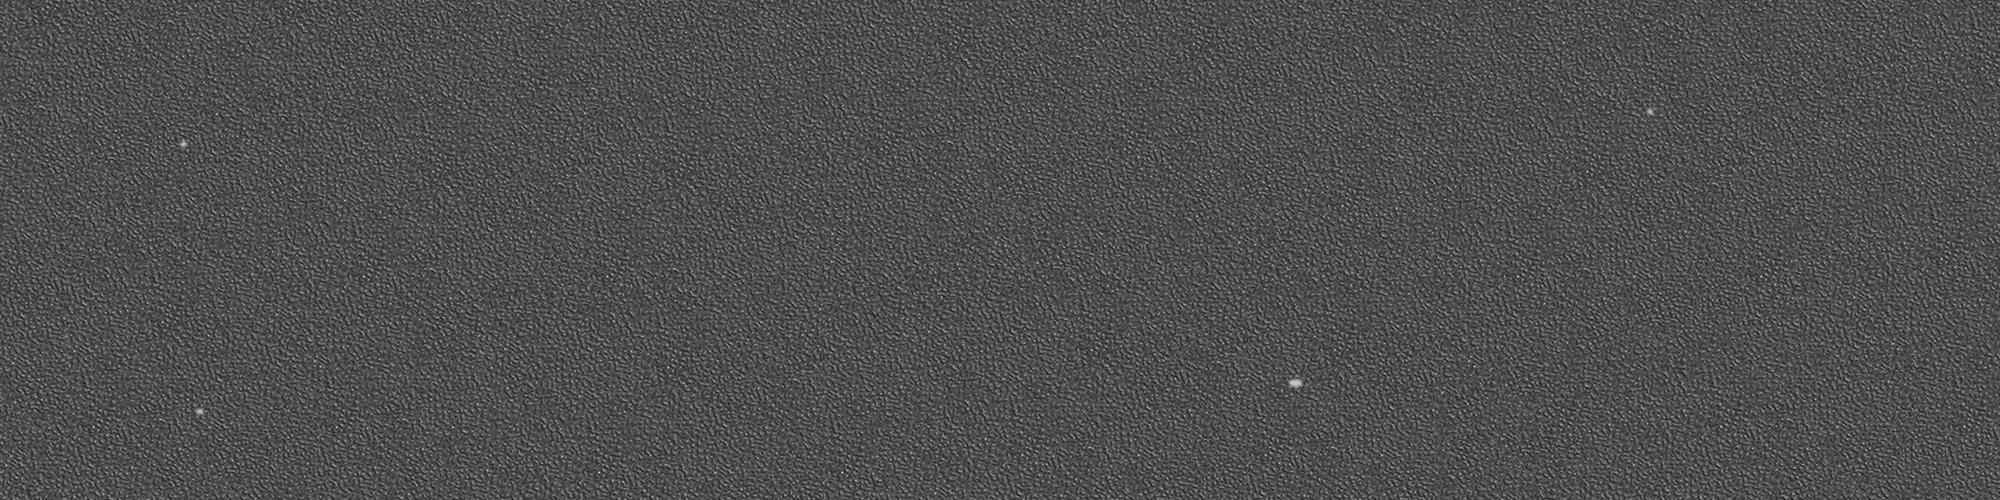Particles: (1284, 378, 1307, 393), (189, 403, 207, 421), (176, 136, 191, 152), (1643, 105, 1657, 119)
